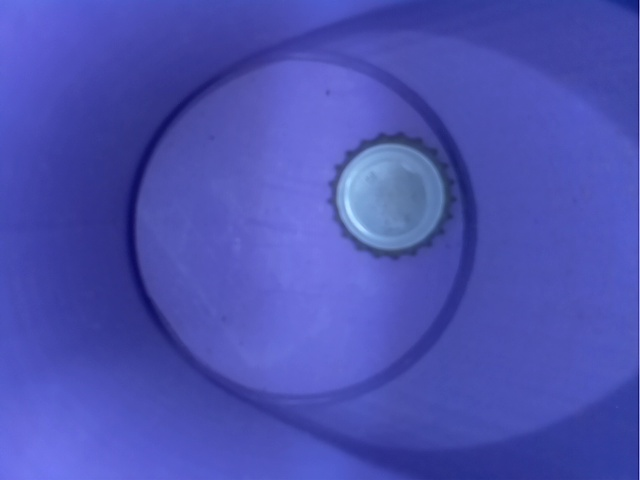capsule: (311, 122, 477, 263)
